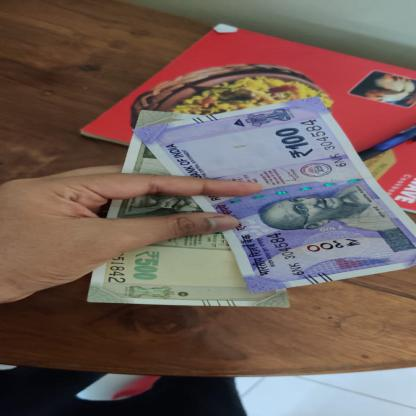New100Front: (132, 95, 415, 293)
New500Front: (85, 108, 293, 309)
